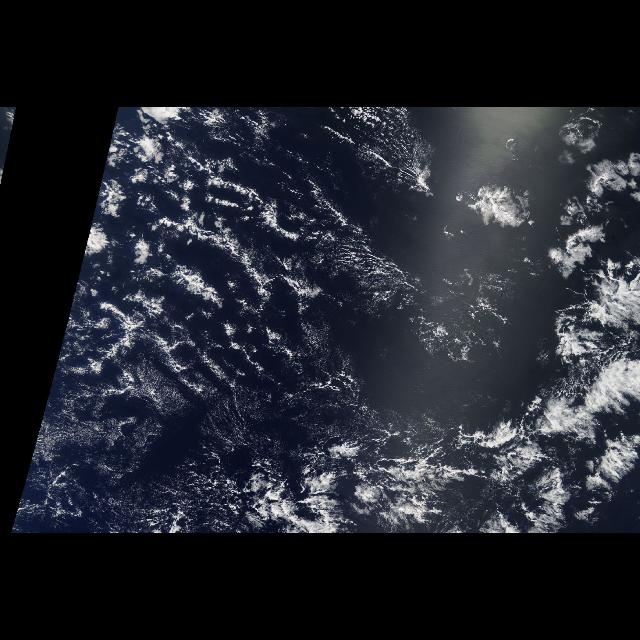Flower: (368, 146, 640, 526)
